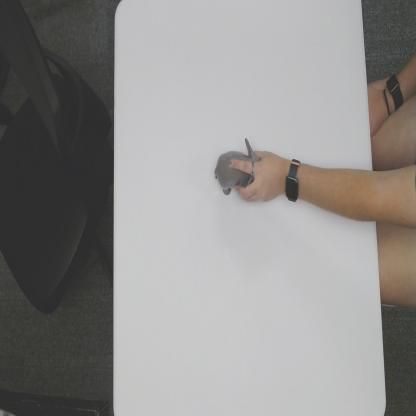Arm: (301, 164, 374, 224)
Elephant: (213, 137, 260, 195)
Hand: (230, 149, 283, 204)
